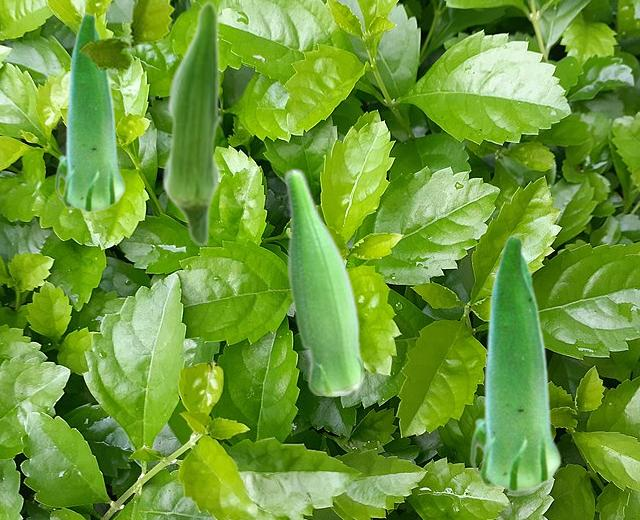okra: (469, 234, 561, 492), (283, 168, 363, 394), (161, 0, 221, 247), (54, 12, 125, 212)
